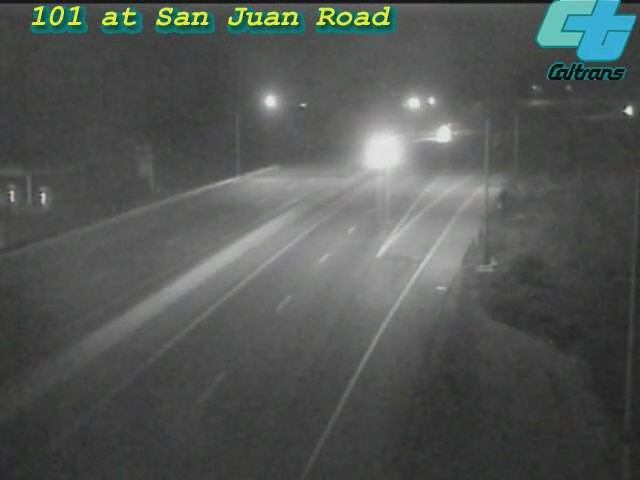vehicle: (353, 127, 403, 177), (420, 108, 470, 158), (604, 86, 640, 136)
